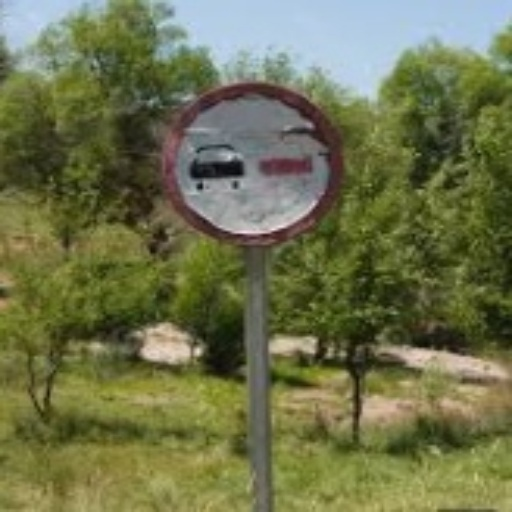No overtake: (156, 64, 349, 251)
